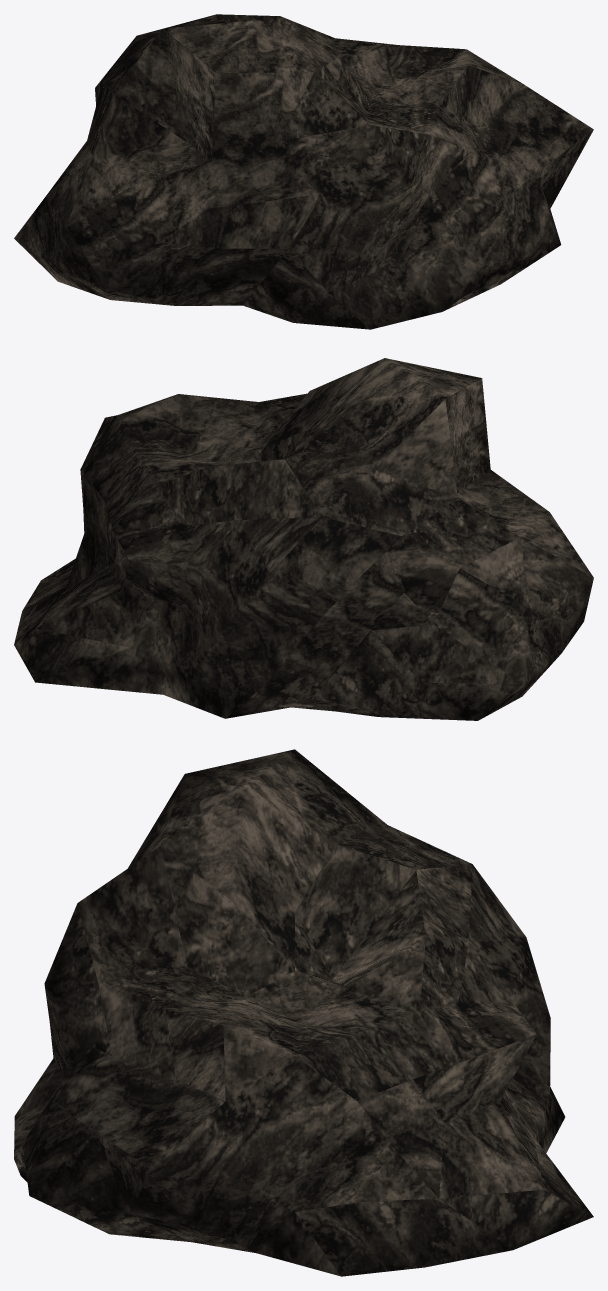
File: rock_4.gltf
3 renders of one model, top to bottom at view 1: azimuth 30°, elevation 25°; view 2: azimuth 150°, elevation 25°; view 3: azimuth 270°, elevation 25°, orthographic. The views are drawn at different scales.
Visible parts, largest first — view 1: rock; view 2: rock; view 3: rock.
Part boxes in pixels (x1,y1,x2,y2): rock: (14,14,593,329); rock: (14,358,593,720); rock: (14,749,593,1276).
Bounding box in the file's own units: 27.32 × 13.24 × 22.12.
1 material, 1 textured.
